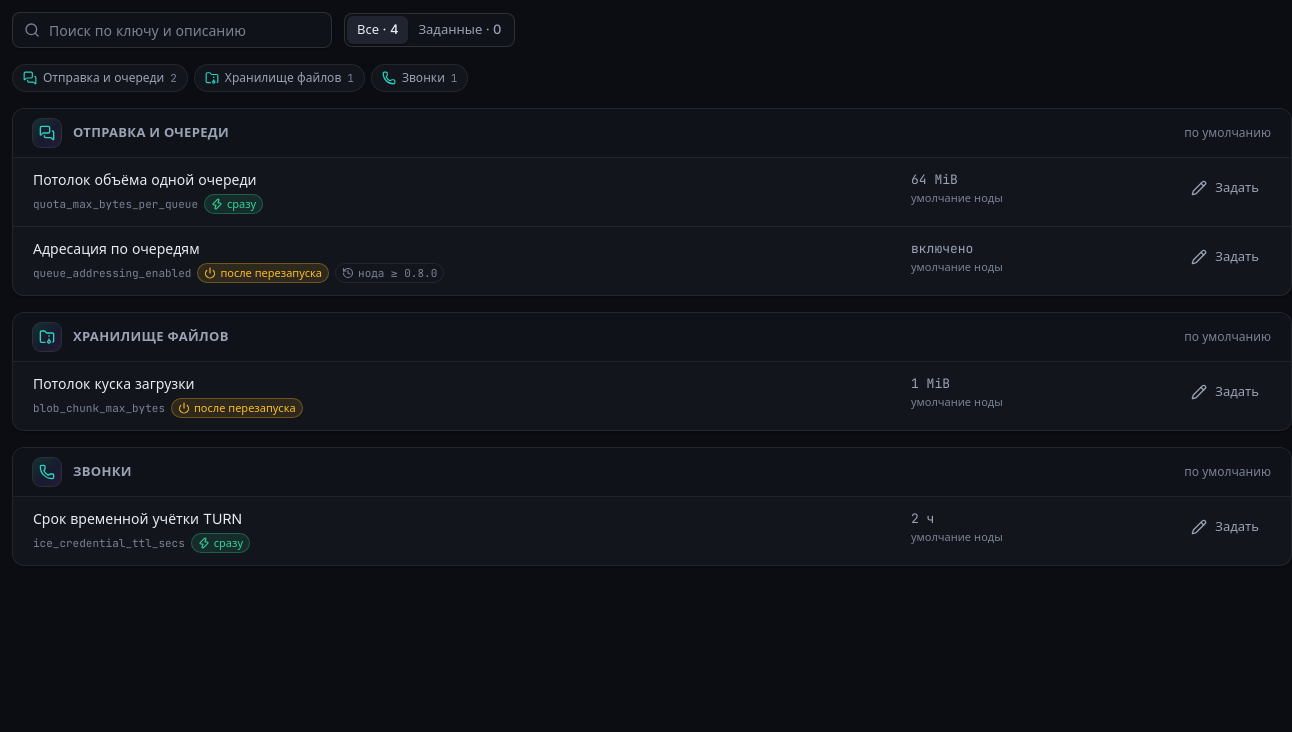
Test case: LimitsEditor › sets a value in another unit and validates it against min/max
Click the button with aria-label "Задать ice_credential_ttl_secs": coordinates (1225, 527) top-left (1179, 511), bottom-right (1271, 543)
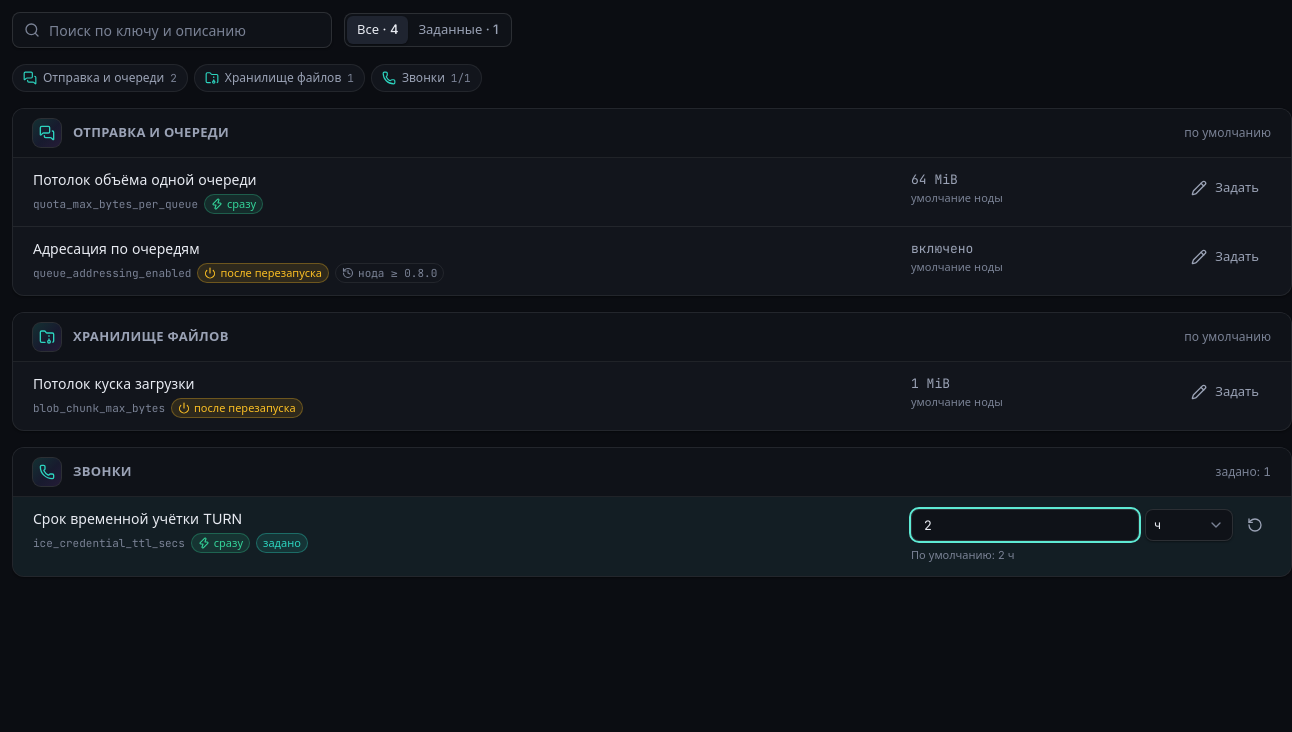
Check: the field labelled "Срок временной учётки TURN" holds "2"
Replace the text in the field labelled "Срок временной учётки TURN" with "4": coordinates (1025, 525) top-left (911, 509), bottom-right (1139, 541)
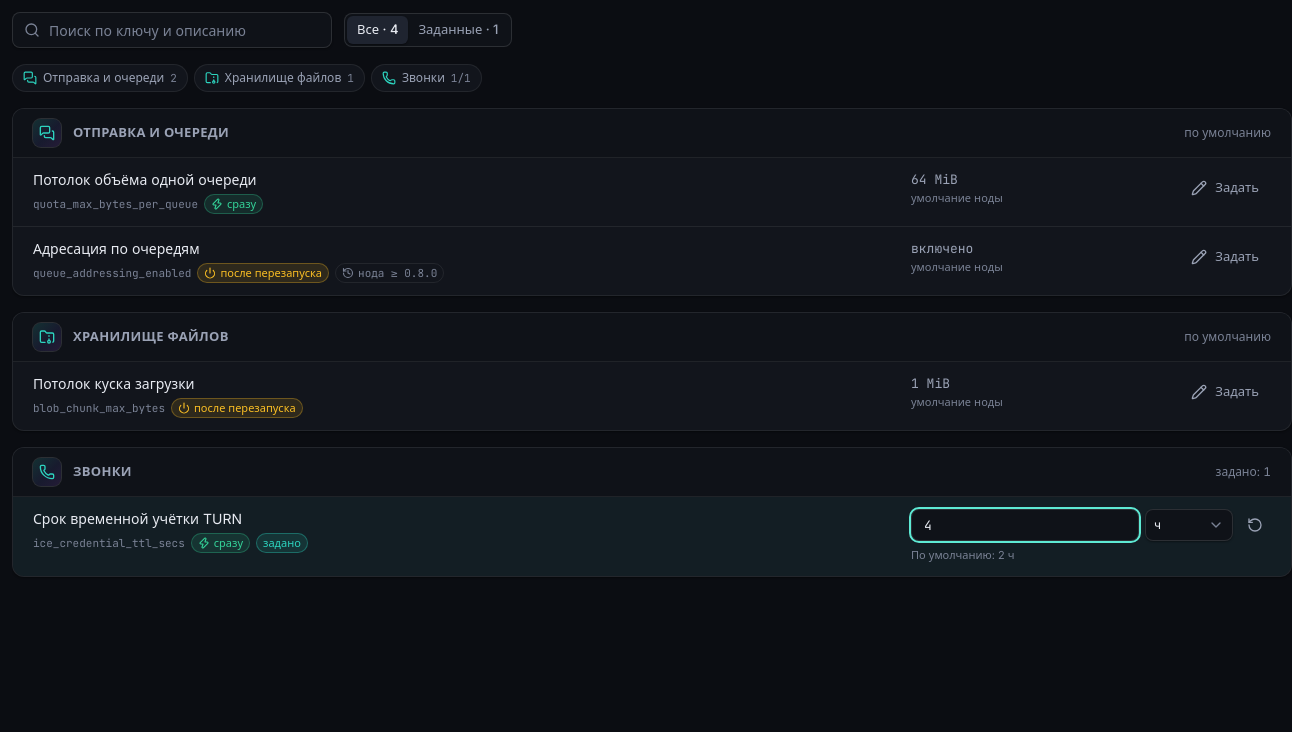
Replace the text in the field labelled "Срок временной учётки TURN" with "48": coordinates (1025, 525) top-left (911, 509), bottom-right (1139, 541)
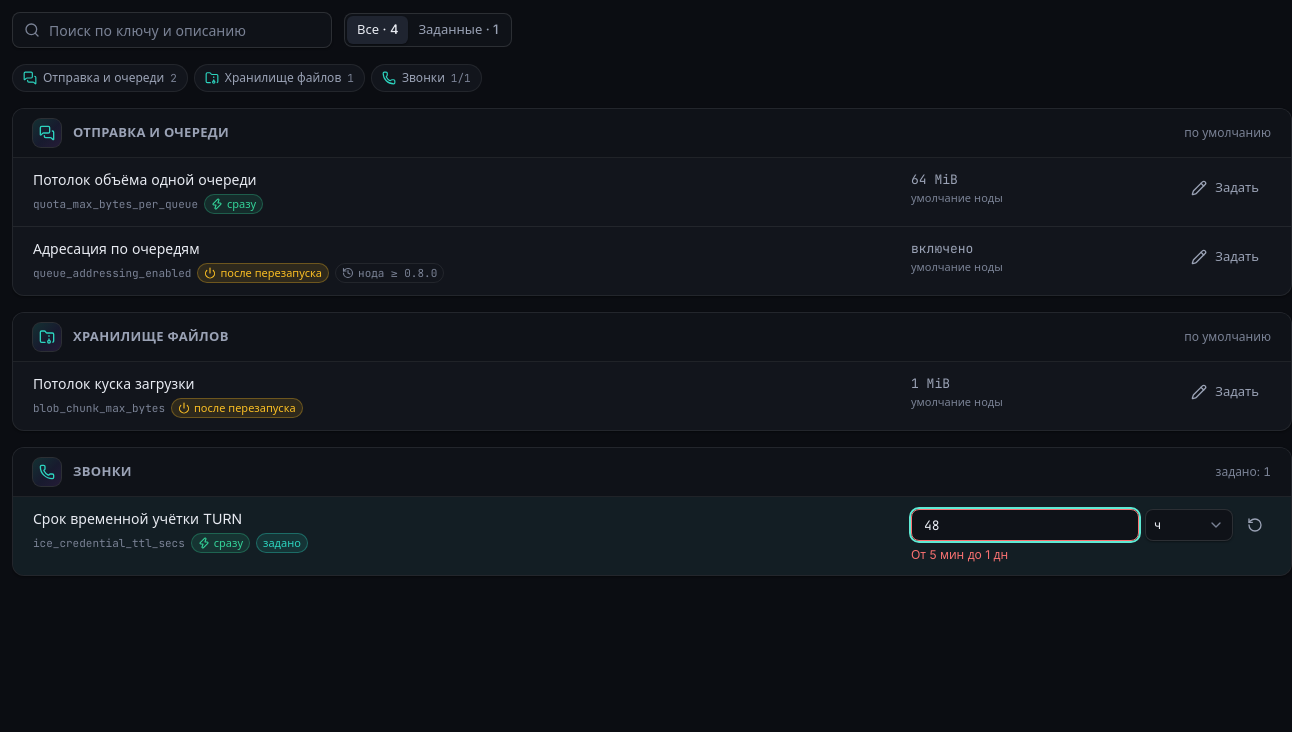
Check: the message reads "От 5 мин до 1 дн", box top-left (911, 547), bottom-right (1008, 562)
